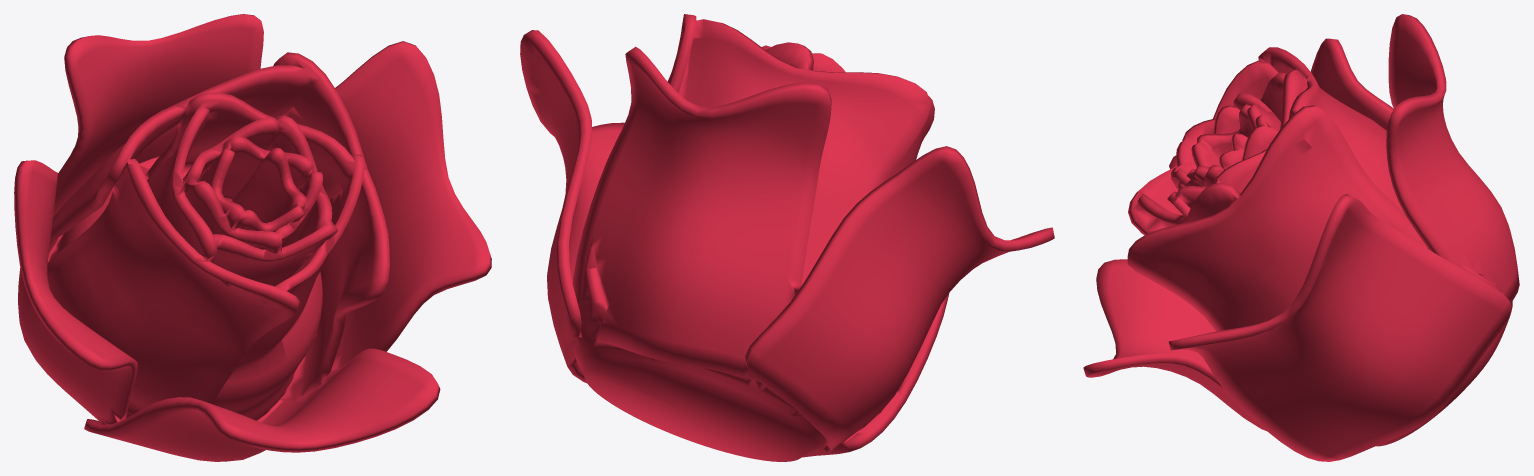
File: rose.fbx
3 views of the same model, side by side, from view 1: azimuth 30°, elevation 25°; view 2: azimuth 150°, elevation 25°; view 3: azimuth 270°, elevation 25° (orthographic). The views are drawn at different scales.
Parts seen in each view (by area): view 1: node_id30; view 2: node_id30; view 3: node_id30.
Part boxes in pixels (x1=…): node_id30: x1=14, y1=14, x2=491, y2=461; node_id30: x1=520, y1=14, x2=1054, y2=461; node_id30: x1=1083, y1=14, x2=1519, y2=461.
Bounding box in the file's own units: 0.1696 × 0.1489 × 0.1537.
Materials: 1 (1 with a texture image).
